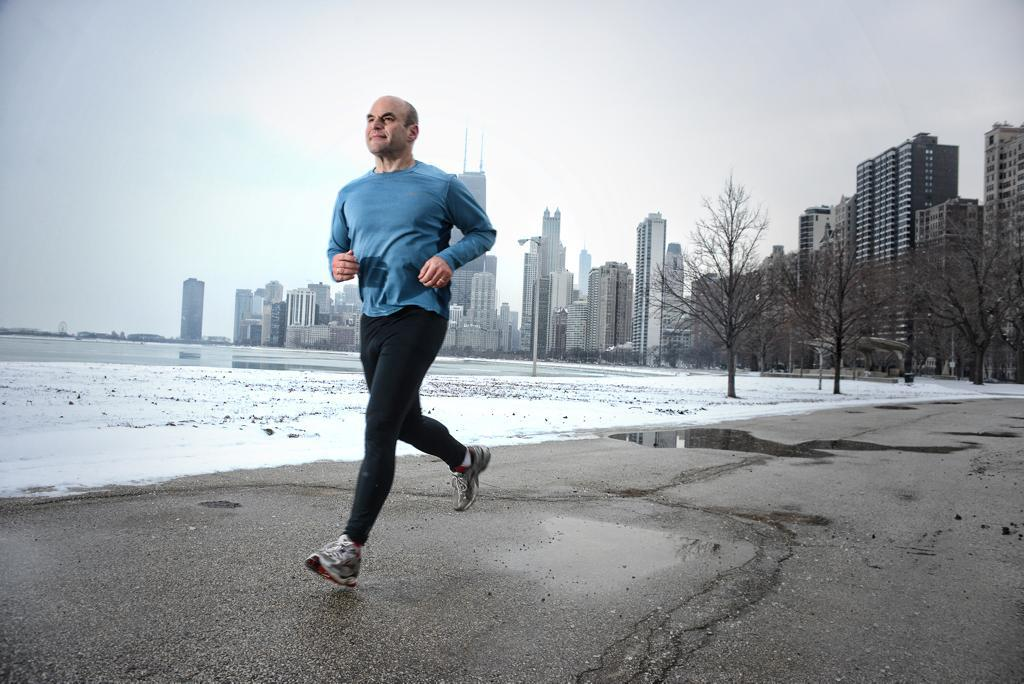face: (366, 97, 408, 153)
